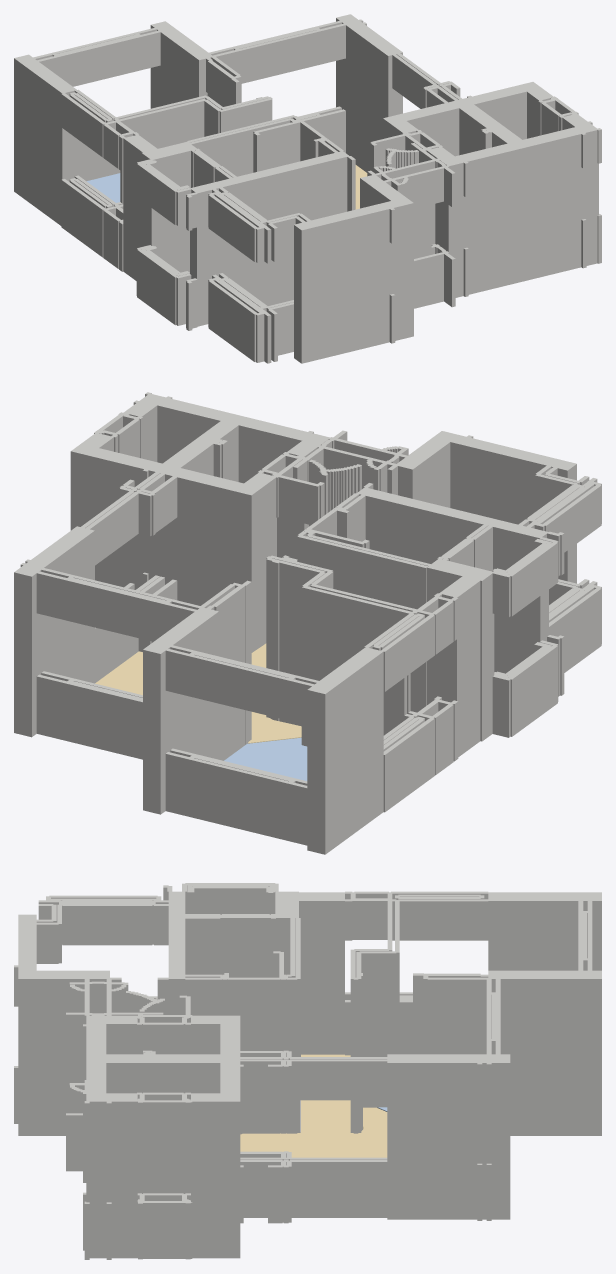
3 views of the same model, one above another, from view 1: azimuth 30°, elevation 25°; view 2: azimuth 150°, elevation 25°; view 3: azimuth 270°, elevation 25° (orthographic). The views are drawn at different scales.
Parts seen in each view (by area): view 1: walls, room:bedroom:1; view 2: walls, room:living:0, room:bedroom:1; view 3: walls, room:living:0.
Boxes of the visible parts, x1=… form: walls: x1=14, y1=14, x2=601, y2=363; room:bedroom:1: x1=87, y1=173, x2=120, y2=202; walls: x1=14, y1=392, x2=601, y2=854; room:living:0: x1=95, y1=643, x2=301, y2=743; room:bedroom:1: x1=224, y1=737, x2=307, y2=780; walls: x1=14, y1=883, x2=601, y2=1259; room:living:0: x1=240, y1=1054, x2=387, y2=1157.
Size of the model in its own units: 8.43 by 2.8 by 9.52.
